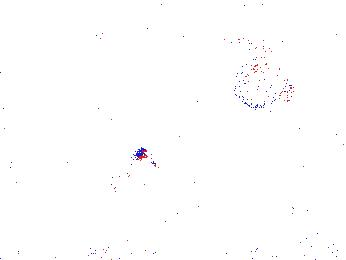flame jellyfish: (269, 172, 346, 227), (232, 56, 296, 110), (100, 145, 158, 202)
